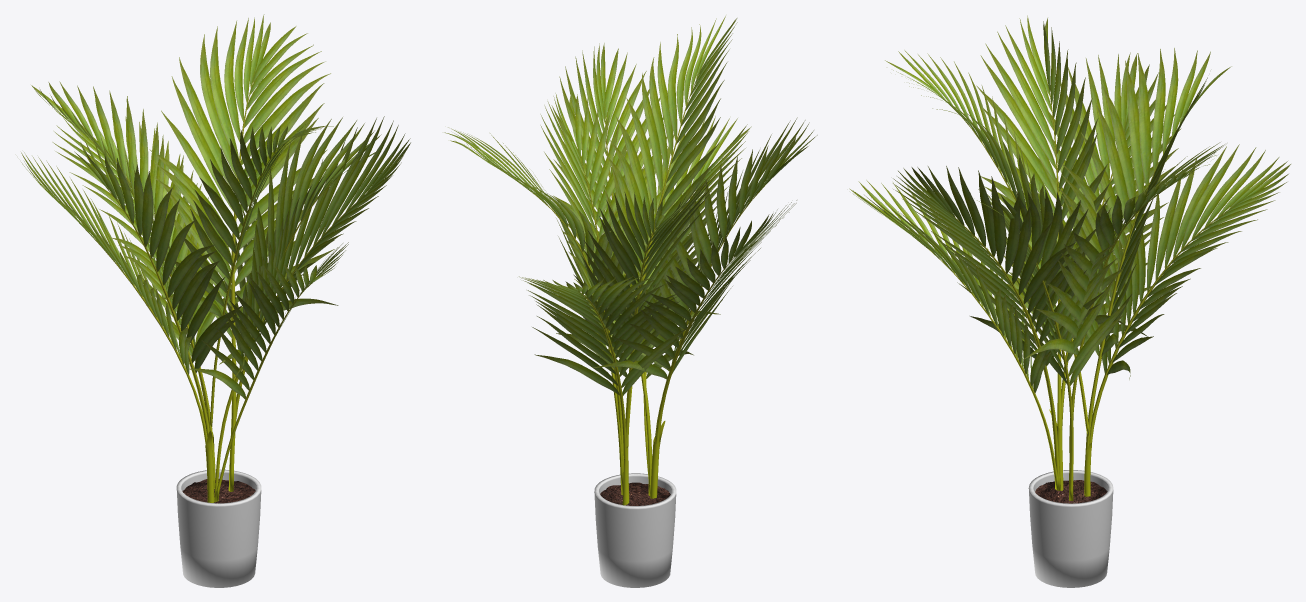
The model's file is majesty_palm_plant.glb.
3 views of the same model, side by side, from view 1: azimuth 30°, elevation 25°; view 2: azimuth 150°, elevation 25°; view 3: azimuth 270°, elevation 25° (orthographic). The views are drawn at different scales.
Visible parts, largest first — view 1: Cube, Cube.002, Cylinder.008, Cube.008, Cube.007, Cube.003, Cube.004, Cube.006, Cube.001, Cube.005, Cylinder.009; view 2: Cube.007, Cube.005, Cube.006, Cube.001, Cylinder.008, Cube.008, Cube.003, Cube.002, Cube, Cube.004, Cylinder.009; view 3: Cube.006, Cube.005, Cube.008, Cube.002, Cylinder.008, Cube.003, Cube.004, Cube, Cube.001, Cube.007, Cylinder.009.
Part boxes in pixels (<box>): Cube: <box>149,14,338,491</box>; Cube.002: <box>63,138,242,493</box>; Cylinder.008: <box>176,469,261,587</box>; Cube.008: <box>214,116,410,501</box>; Cube.007: <box>160,124,333,426</box>; Cube.003: <box>219,117,381,490</box>; Cube.004: <box>187,242,348,502</box>; Cube.006: <box>31,81,239,487</box>; Cube.001: <box>21,152,207,443</box>; Cube.005: <box>52,116,242,417</box>; Cylinder.009: <box>182,479,255,503</box>; Cube.007: <box>594,16,737,447</box>; Cube.005: <box>519,276,689,461</box>; Cube.006: <box>556,174,716,460</box>; Cube.001: <box>593,200,796,443</box>; Cylinder.008: <box>594,473,676,587</box>; Cube.008: <box>551,43,720,496</box>; Cube.003: <box>540,93,652,489</box>; Cube.002: <box>602,117,817,442</box>; Cube: <box>444,127,655,495</box>; Cube.004: <box>611,116,751,478</box>; Cylinder.009: <box>600,482,670,505</box>; Cube.006: <box>1058,48,1231,495</box>; Cube.005: <box>1089,144,1290,444</box>; Cube.008: <box>893,166,1104,490</box>; Cube.002: <box>976,15,1127,429</box>; Cylinder.008: <box>1028,470,1113,587</box>; Cube.003: <box>977,189,1130,500</box>; Cube.004: <box>849,180,1058,490</box>; Cube: <box>1024,142,1224,500</box>; Cube.001: <box>1004,52,1181,429</box>; Cube.007: <box>885,50,1088,435</box>; Cylinder.009: <box>1035,480,1107,503</box>.
Size of the model in its own units: 1.14 by 1.76 by 1.38.
3 materials, 2 textured.
